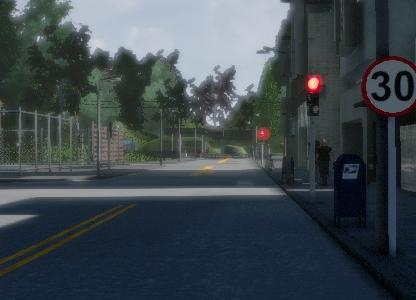Speed_30: (357, 54, 416, 120)
